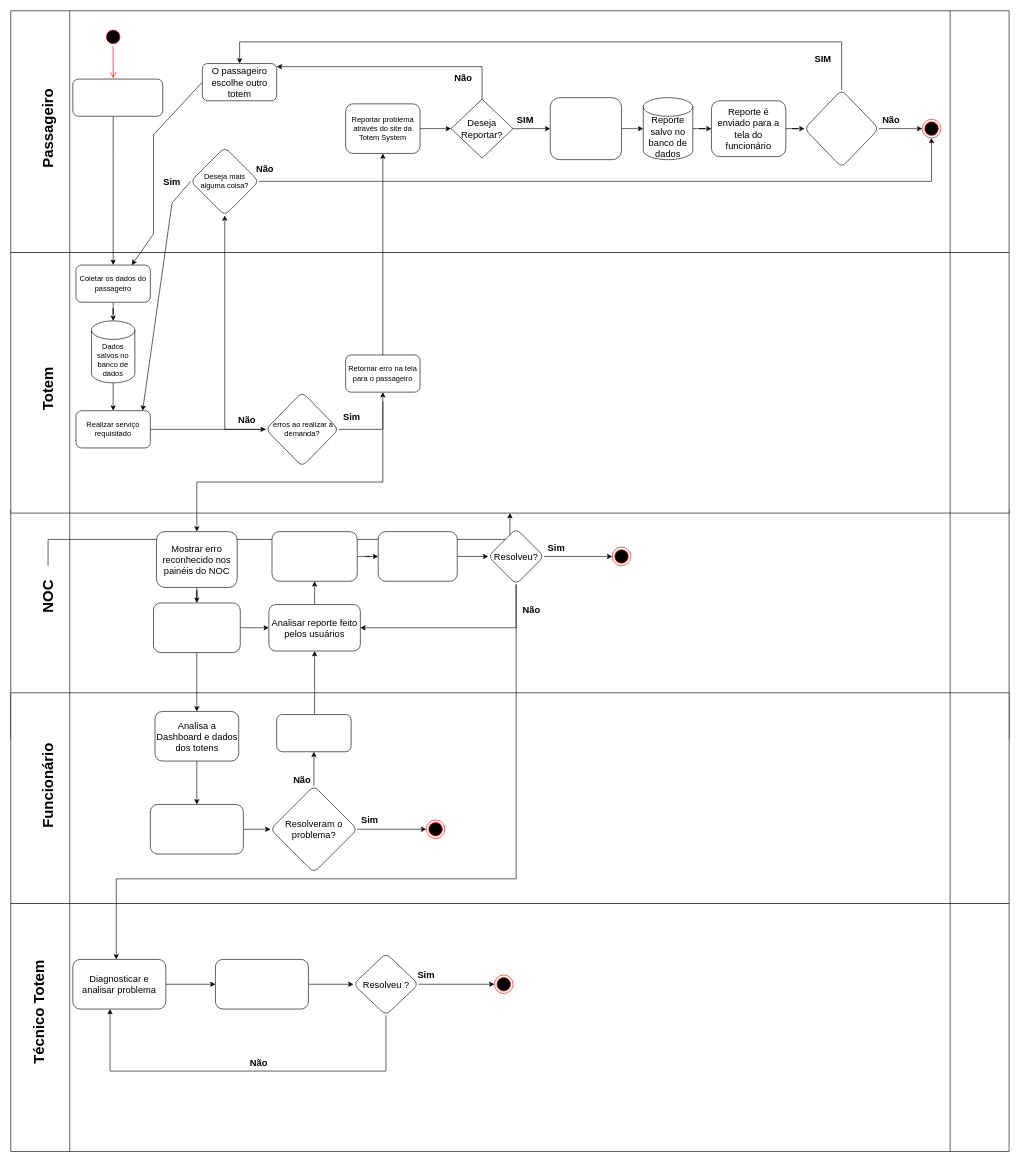
Image size: 1020x1163. Some labels were removed from this diagram. The centre of each missing label's shape, as x and y in pixels:
"Analisar o reporte e manda-lo para o NOC" belongs at [313,733].
"Deseja continuar utilizando os totens?" belongs at [841,128].
"Identificar erro que está interferindo no funcionamento" belongs at [314,556].
"Mostrar erros na Dashboard do Cliente para analise" belongs at [196,627].
"Preenche as informações pedidas no formulário" belongs at [586,128].
"Realizar ajuste no software" belongs at [417,556].
"Tentar solucionar problema encontrado" belongs at [261,984].
"Utiliza os serviços do totem de determinada estação" belongs at [117,97].
"Verificar se houve algum problema e visualizar reportes" belongs at [196,829].
